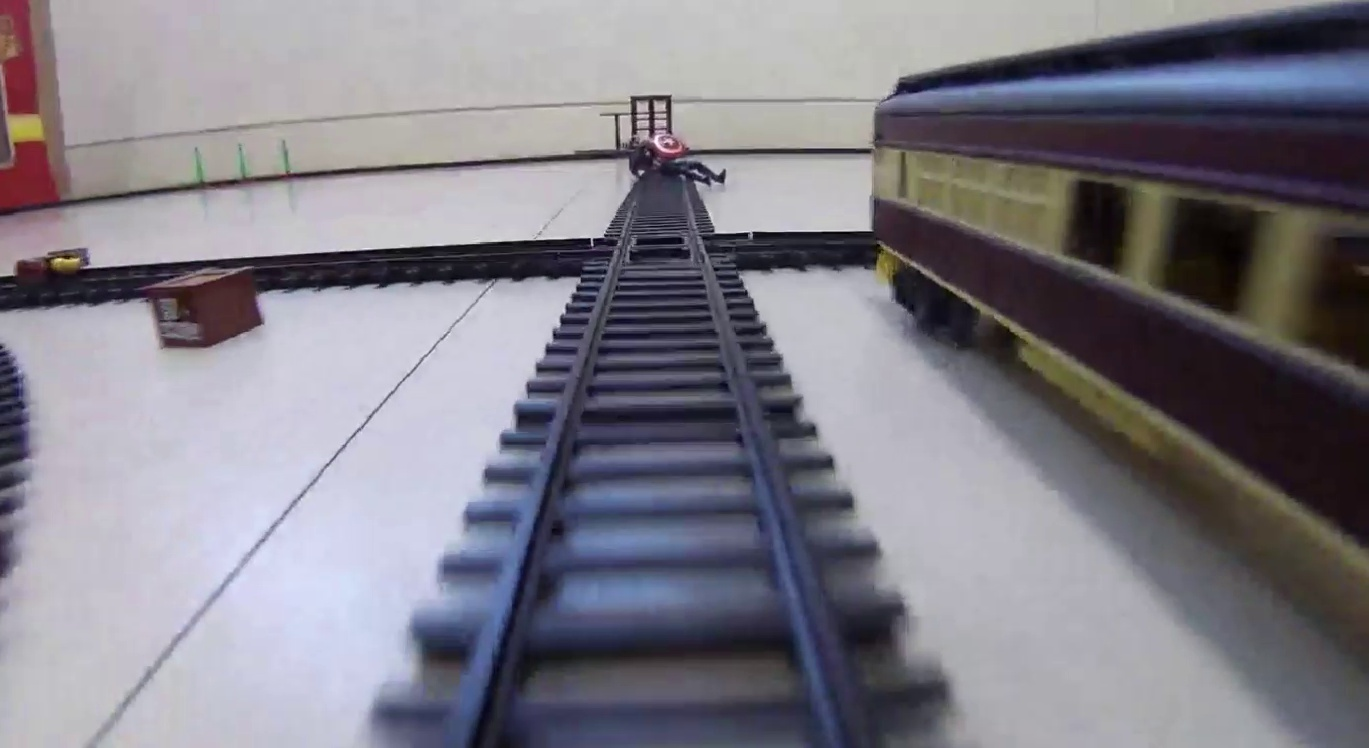box: (151, 269, 259, 347)
people: (620, 134, 725, 188)
